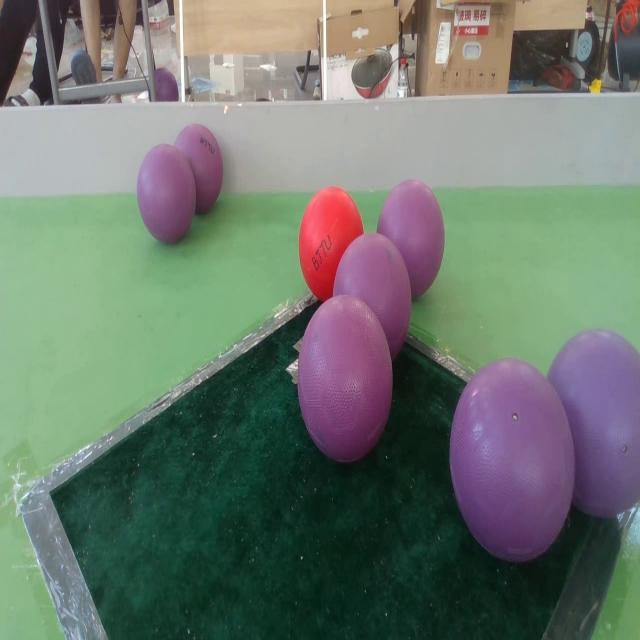invalid: (451, 362, 574, 559), (545, 328, 640, 517), (297, 294, 393, 465), (334, 229, 412, 362), (379, 179, 446, 301), (137, 142, 196, 243), (174, 126, 222, 213)
red: (300, 186, 364, 302)
